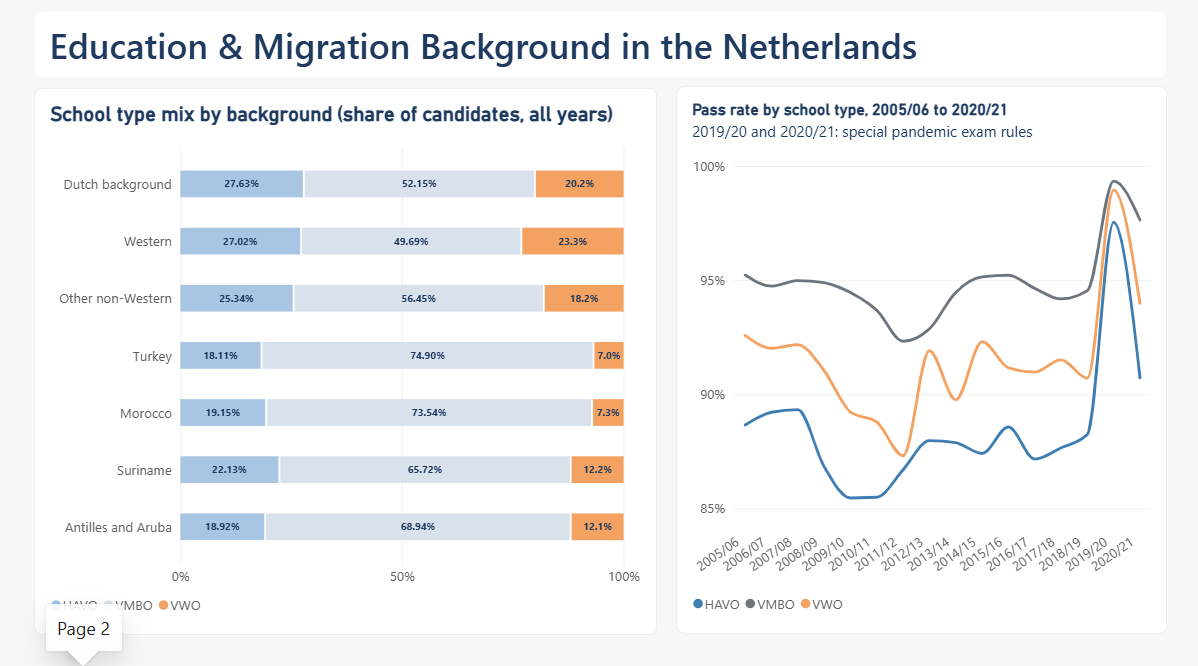

Layout of this report page (visuals, bound fields, positions):
{"tool":"powerbi","page":{"name":"Page 2","canvas":[1280,720],"ordinal":1},"visuals":[{"type":"hundredPercentStackedBarChart","title":"School type mix by background (share of candidates, all years)","fields":{"Category":["exam_results_clean.background"],"Series":["exam_results_clean.school_type"],"Y":["exam_results_clean.Total Candidates"]},"box":[39.8,101.8,660,580],"z":0},{"type":"cardVisual","fields":{"Data":["exam_results_clean.Dashboard Title"]},"box":[40,20,1200,70],"z":1},{"type":"lineChart","title":"Pass rate by school type, 2005/06 to 2020/21","fields":{"Category":["exam_results_clean.school_year"],"Series":["exam_results_clean.school_type"],"Y":["exam_results_clean.Pass Rate"]},"box":[720,100,520,580],"z":2}]}

Visuals, with their boxes in screenshot pixels (x1, y1, x2, y2), scaled from the page's 1280x720 canvas onto the 1198x666 screenshot:
"School type mix by background (share of candidates, all years)" hundredPercentStackedBarChart: [left=37, top=94, right=655, bottom=631]
cardVisual - exam_results_clean.Dashboard Title: [left=37, top=18, right=1161, bottom=83]
"Pass rate by school type, 2005/06 to 2020/21" lineChart: [left=674, top=92, right=1161, bottom=629]
